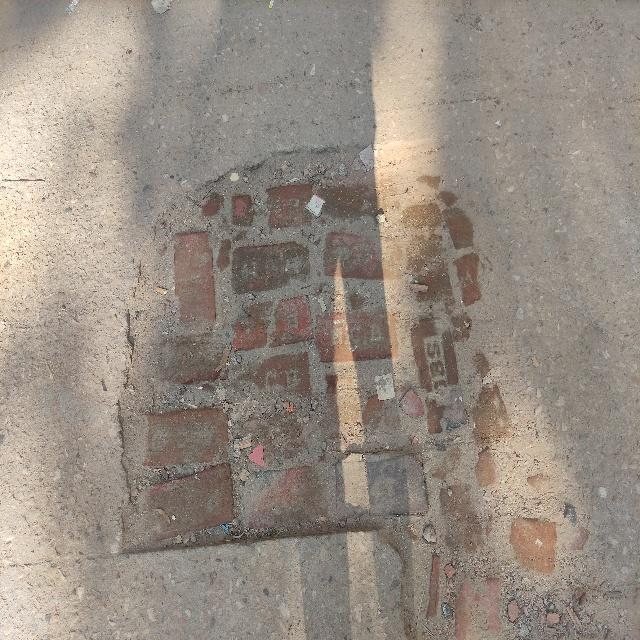Surface Erosion: (84, 115, 614, 615)
